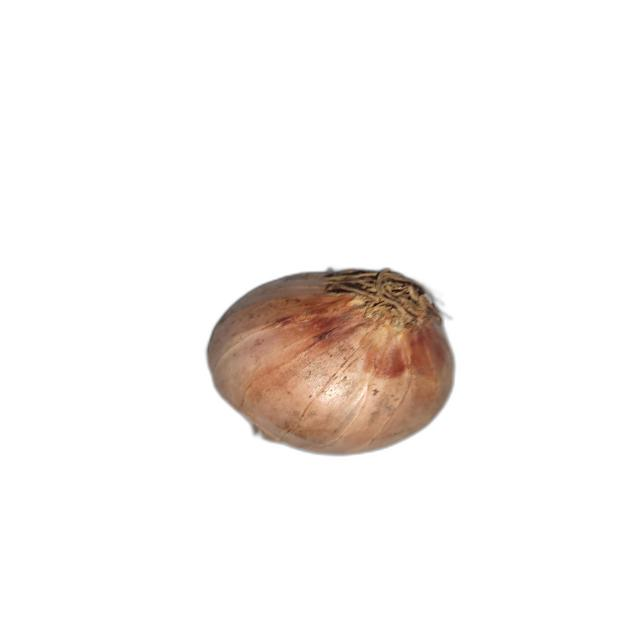onion: (203, 264, 461, 458)
